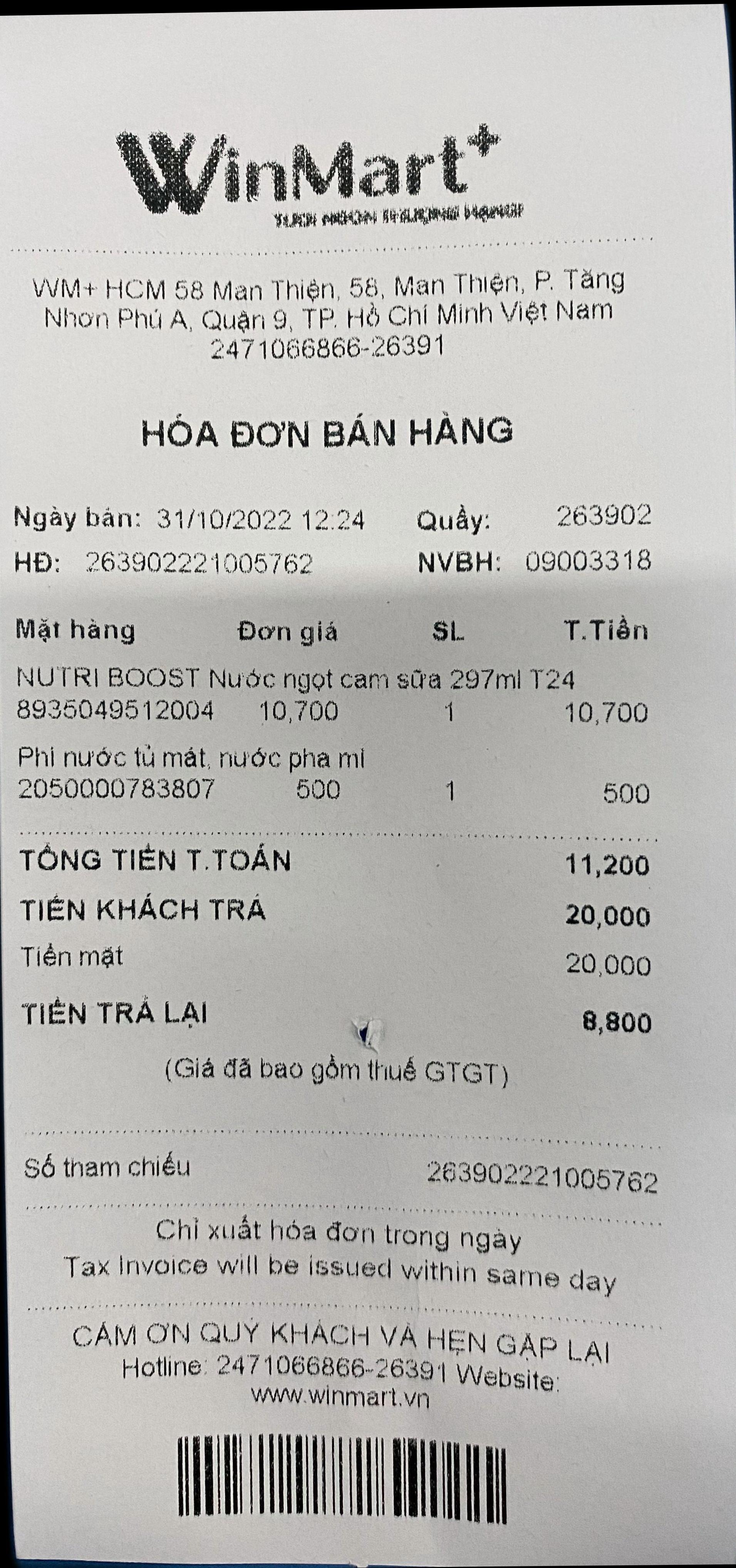Date: (135, 499, 297, 540)
Store_Name: (39, 104, 609, 251)
Total_Amount: (0, 815, 668, 890)
